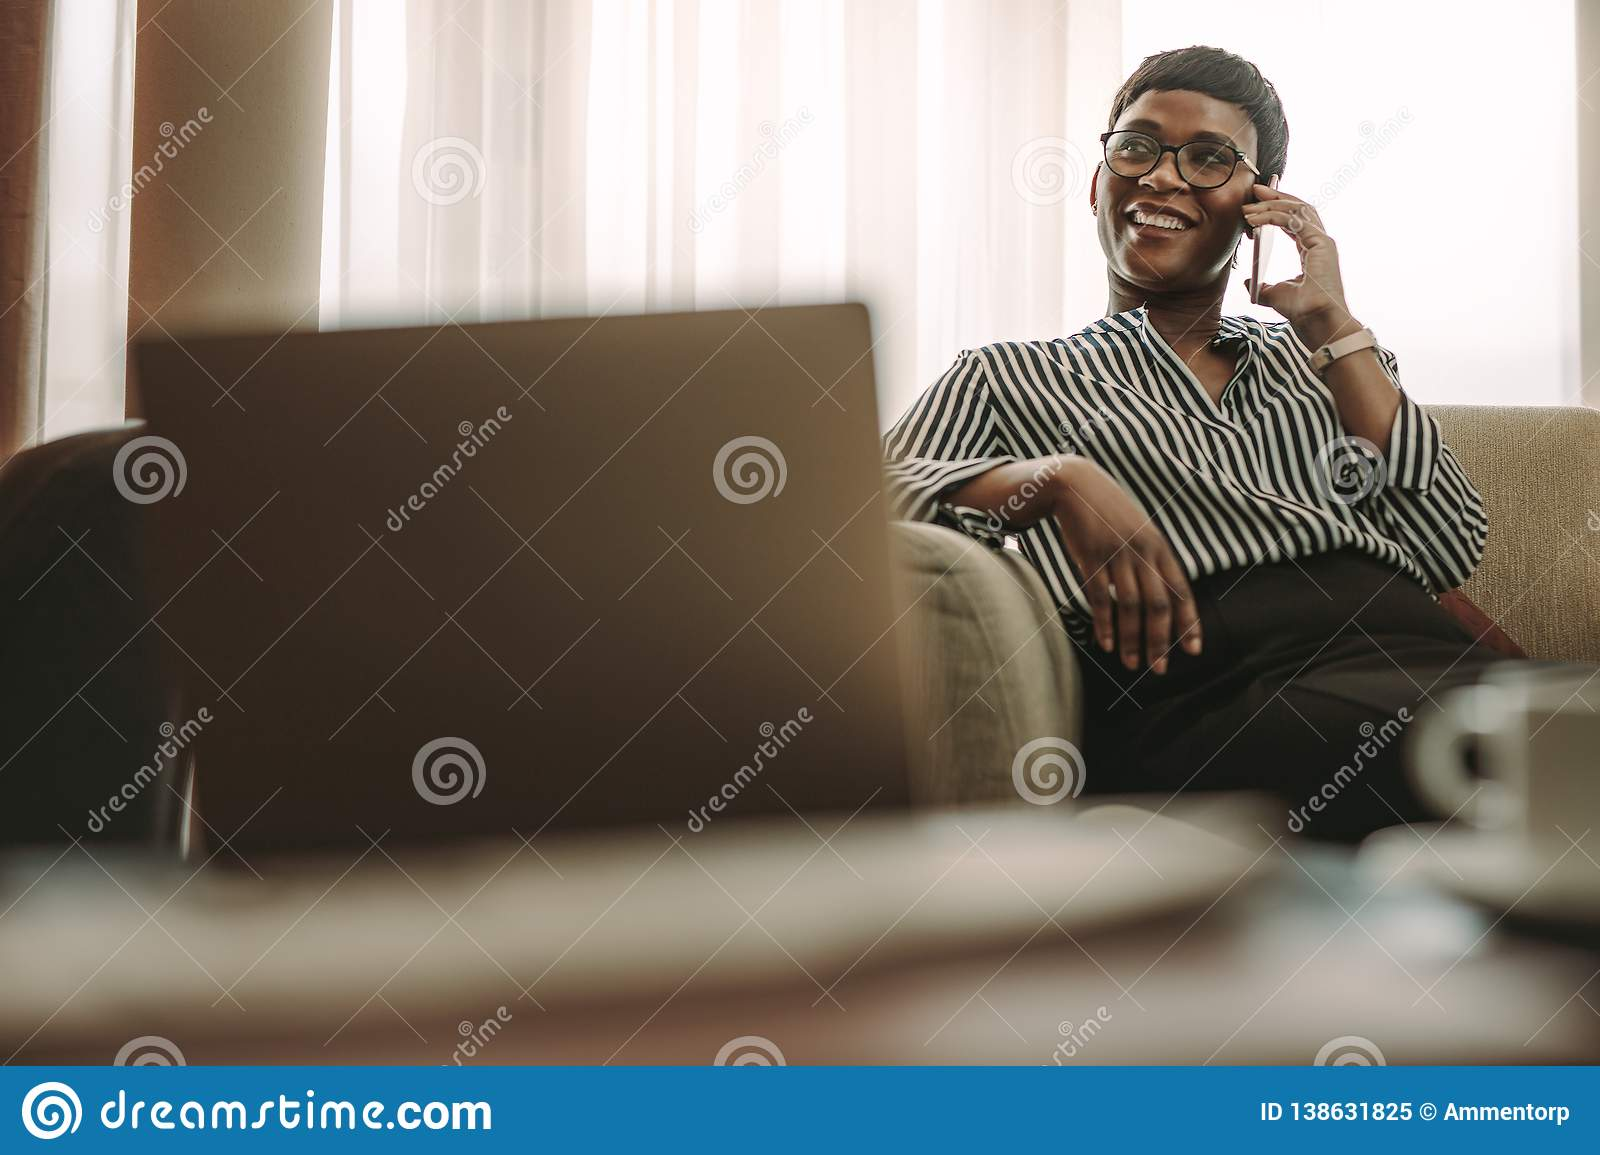phone: (1242, 163, 1288, 307)
talk: (1094, 111, 1342, 337)
